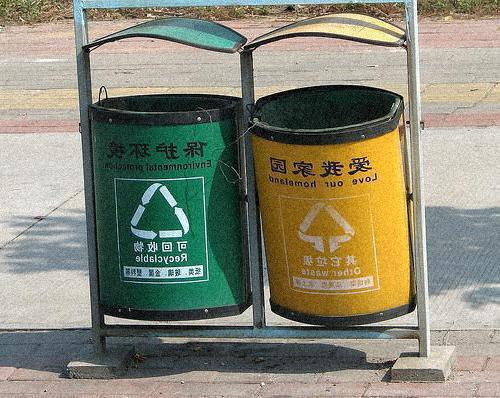Bote de Basura: (240, 17, 421, 321), (88, 22, 253, 318)
